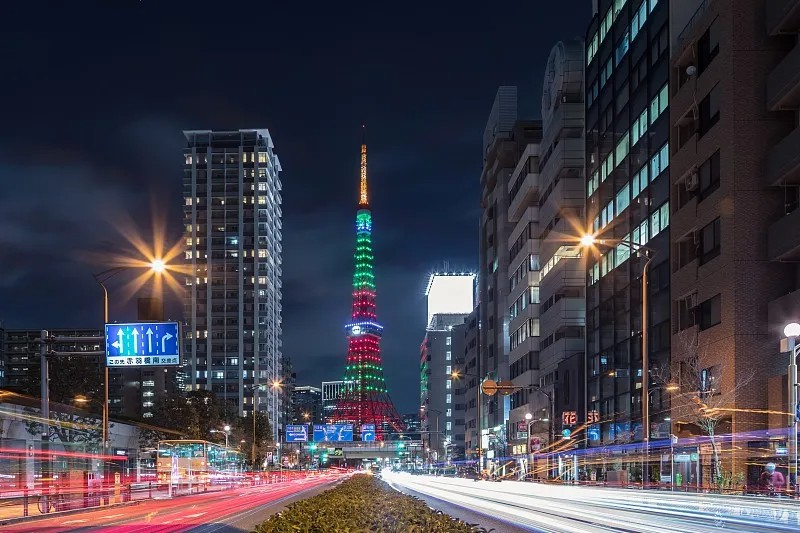Tokyo: (325, 120, 405, 431)
